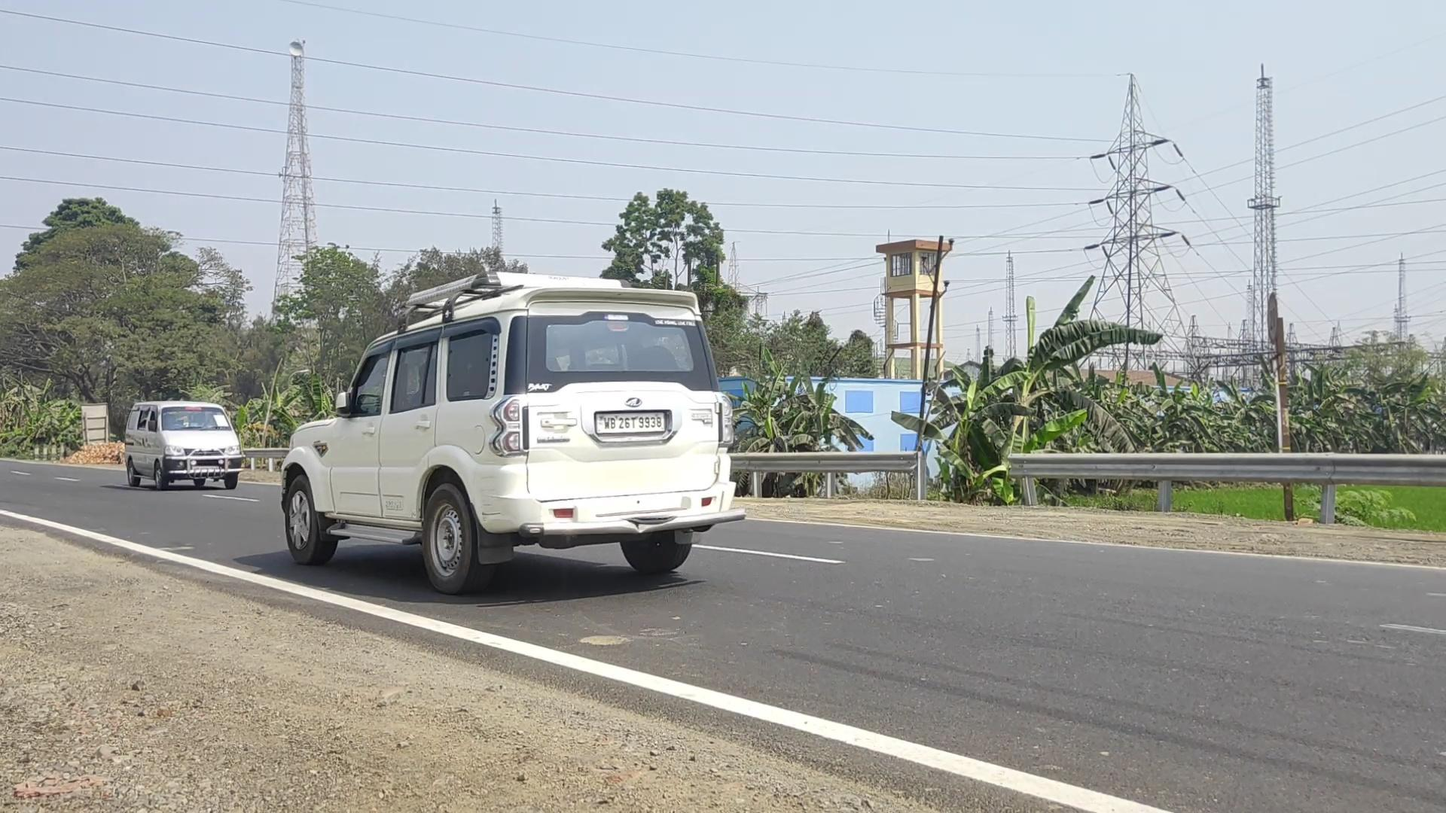car: (279, 272, 746, 595)
van: (124, 400, 245, 492)
